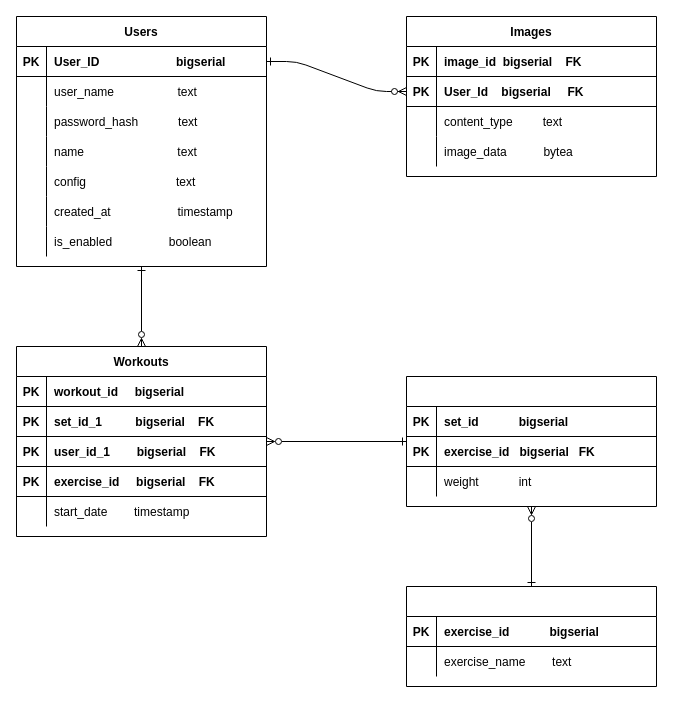
Image size: 673x703. Some labels were removed from this diagram. Here are the shapes that lost their labels. From the top down, the box of each, then its label:
(406, 376, 656, 506): Sets
(406, 586, 656, 686): Exercises
